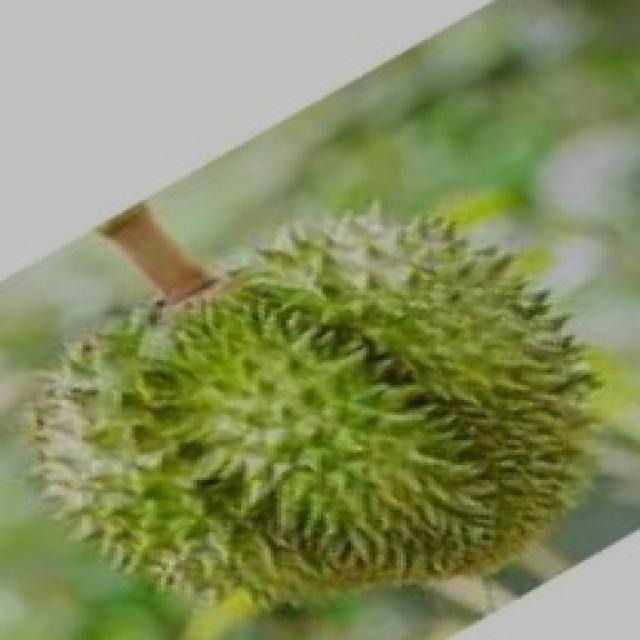fruit: (3, 252, 379, 640), (292, 225, 637, 627)
